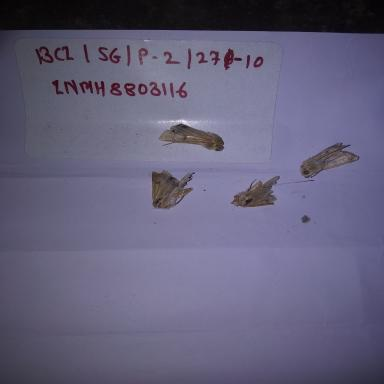abw: (296, 137, 364, 184), (137, 164, 201, 212), (154, 120, 238, 156), (226, 171, 292, 211)
